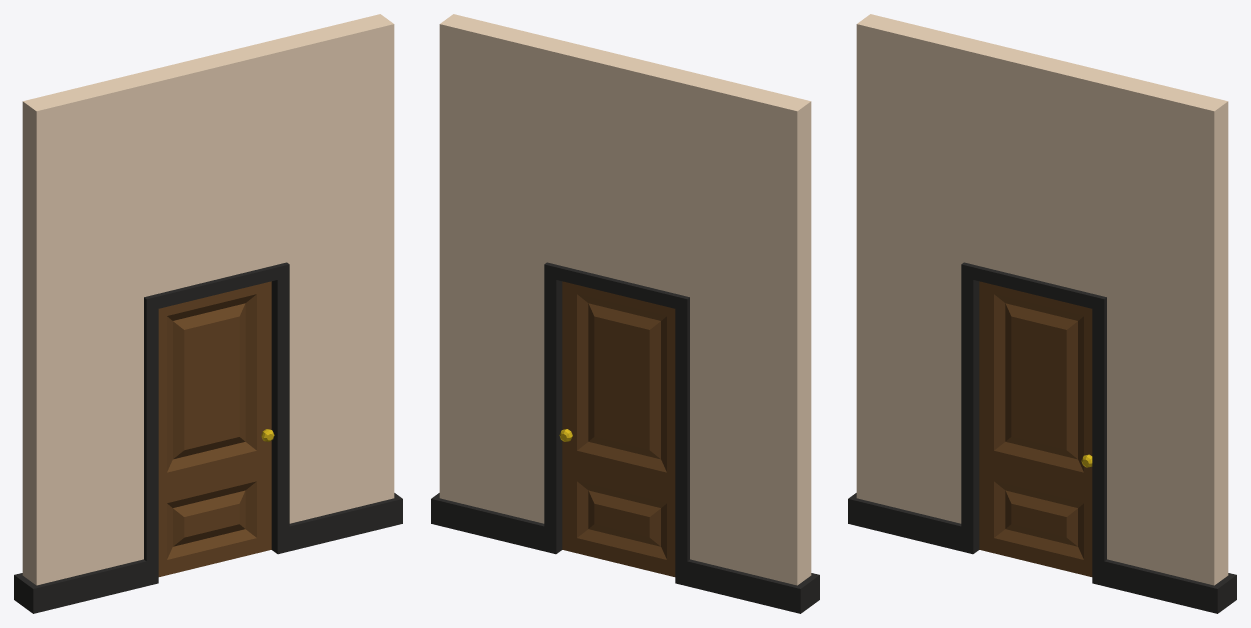
The model's file is Puerta_Pared.fbx.
The picture shows the model from 3 angles, left to right: view 1: azimuth 30°, elevation 25°; view 2: azimuth 150°, elevation 25°; view 3: azimuth 330°, elevation 25°; orthographic projection.
Visible parts, largest first — view 1: Pared, Puerta; view 2: Pared, Puerta; view 3: Pared, Puerta.
Boxes of the visible parts, box(x1,y1,x2,y2) form: Pared: box(14, 14, 402, 613); Puerta: box(158, 281, 274, 576); Pared: box(431, 14, 819, 613); Puerta: box(559, 281, 675, 576); Pared: box(848, 14, 1236, 613); Puerta: box(979, 281, 1092, 576).
Bounding box in the file's own units: 310 × 400 × 28.
